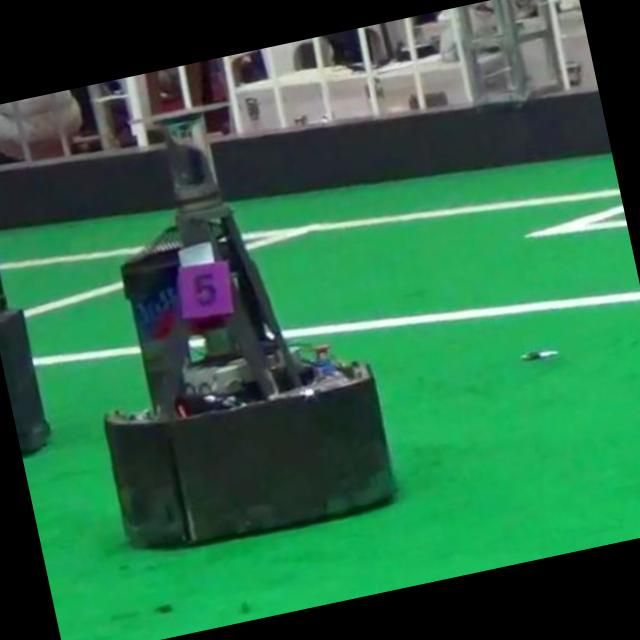robot: (104, 102, 394, 545)
